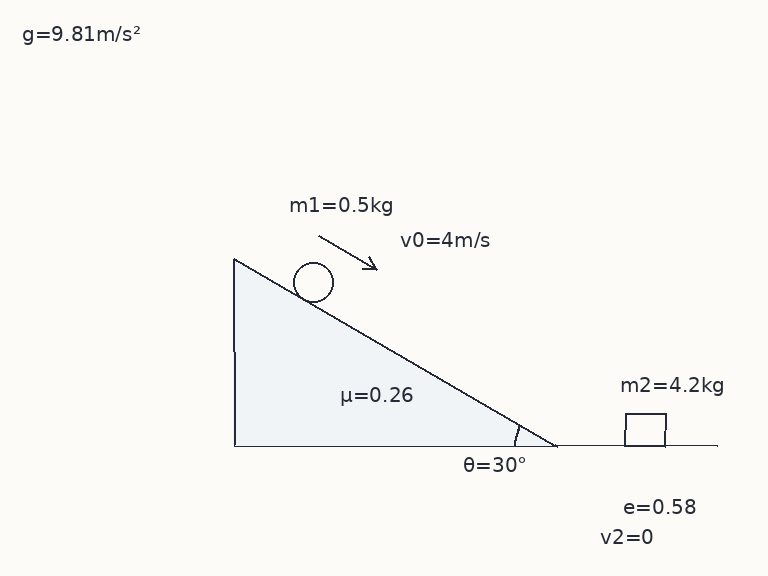ball: (291, 260, 335, 304)
block: (622, 412, 668, 447)
ramp: (232, 257, 557, 447)
